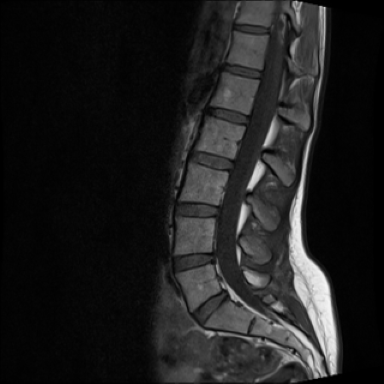Lumbar Disc Bulge (LDB): (188, 290, 231, 327)
Normal IVD: (185, 148, 237, 176), (170, 247, 219, 276), (171, 199, 224, 223), (203, 103, 253, 128), (217, 60, 266, 82), (227, 21, 273, 37)
Spinal Stenosis (SS): (219, 285, 231, 304)
